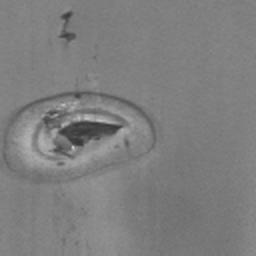Slag inclusion: (3, 90, 157, 188), (56, 10, 78, 50), (124, 136, 131, 150)
